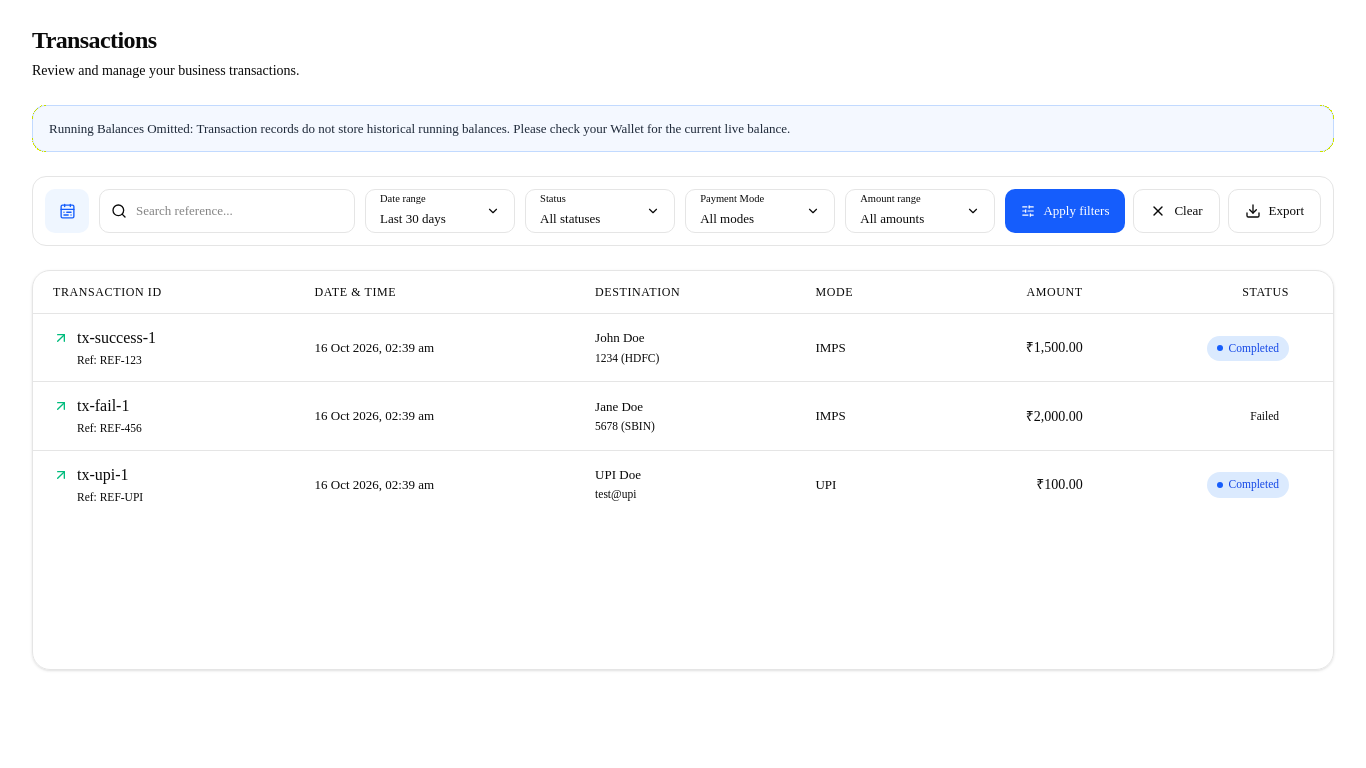
Scenario: TransactionsDashboard Detail Drawer UI › 10: API error renders clean error state
Click the text "tx-fail-1" at (103, 406), box [77,394,129,418]
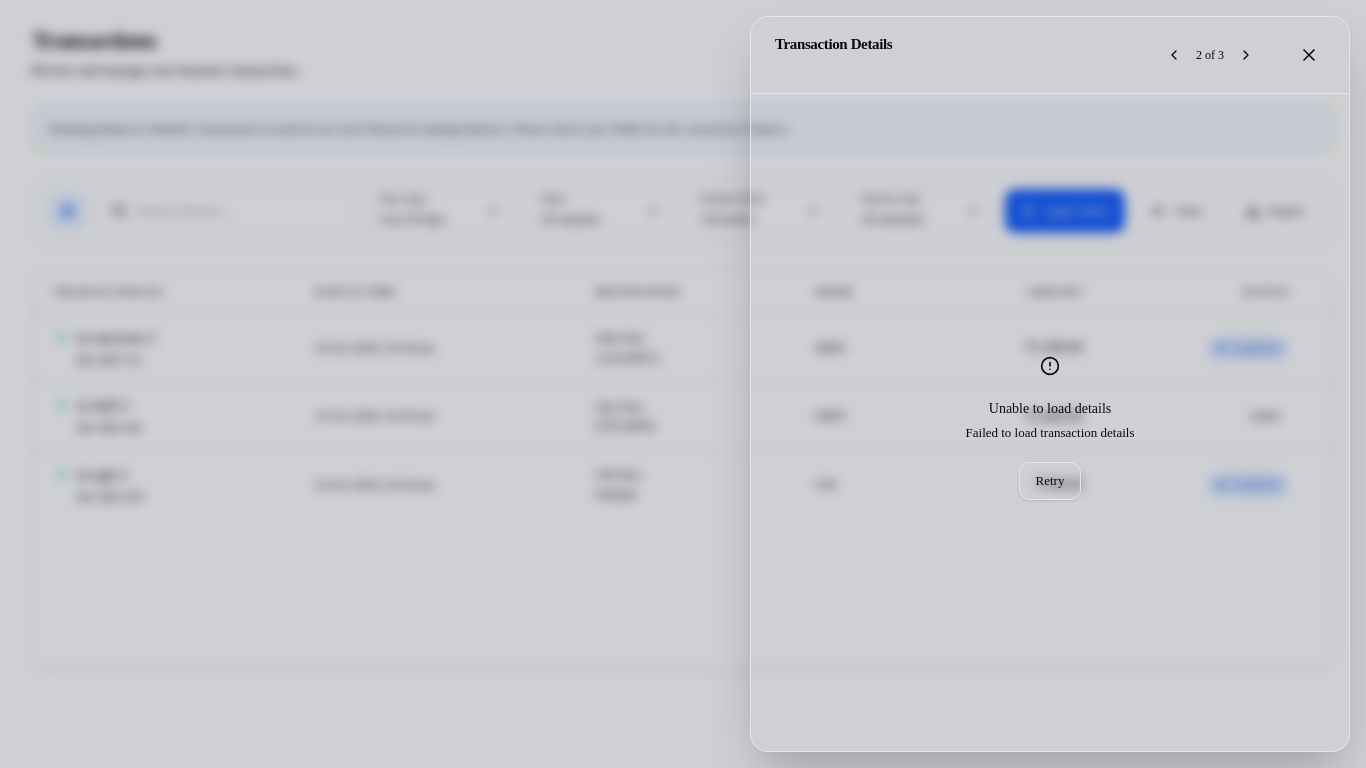
Expected: the text "Failed to load transaction details" is shown, [966,422,1134,442]
